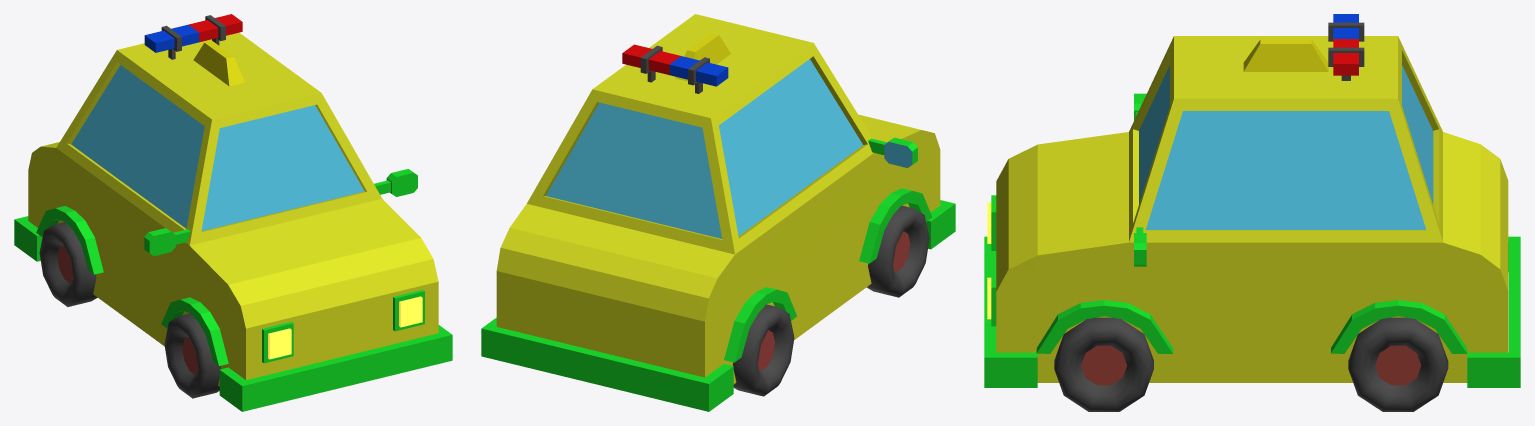
File: car.fbx
The picture shows the model from 3 angles, left to right: view 1: azimuth 30°, elevation 25°; view 2: azimuth 150°, elevation 25°; view 3: azimuth 270°, elevation 25°; orthographic projection. The views are drawn at different scales.
Visible parts, largest first — view 1: Car, wheels_2, wheels_1, Police_light, Taksi; view 2: Car, wheels_1, wheels_2, Police_light, Taksi; view 3: Car, wheels_2, wheels_1, Taksi, Police_light.
Boxes of the visible parts, left/top/right/bottom form: Car: left=14, top=32, right=452, bottom=411; wheels_2: left=39, top=222, right=97, bottom=306; wheels_1: left=164, top=313, right=221, bottom=398; Police_light: left=144, top=14, right=242, bottom=59; Taksi: left=193, top=41, right=244, bottom=86; Car: left=481, top=14, right=955, bottom=411; wheels_1: left=866, top=205, right=929, bottom=297; wheels_2: left=733, top=304, right=794, bottom=396; Police_light: left=622, top=44, right=728, bottom=93; Taksi: left=675, top=33, right=730, bottom=81; Car: left=984, top=36, right=1520, bottom=387; wheels_2: left=1348, top=317, right=1448, bottom=411; wheels_1: left=1054, top=317, right=1153, bottom=411; Taksi: left=1243, top=39, right=1328, bottom=71; Police_light: left=1328, top=14, right=1364, bottom=80.
Size of the model in its own units: 69.76 by 65.83 by 103.
